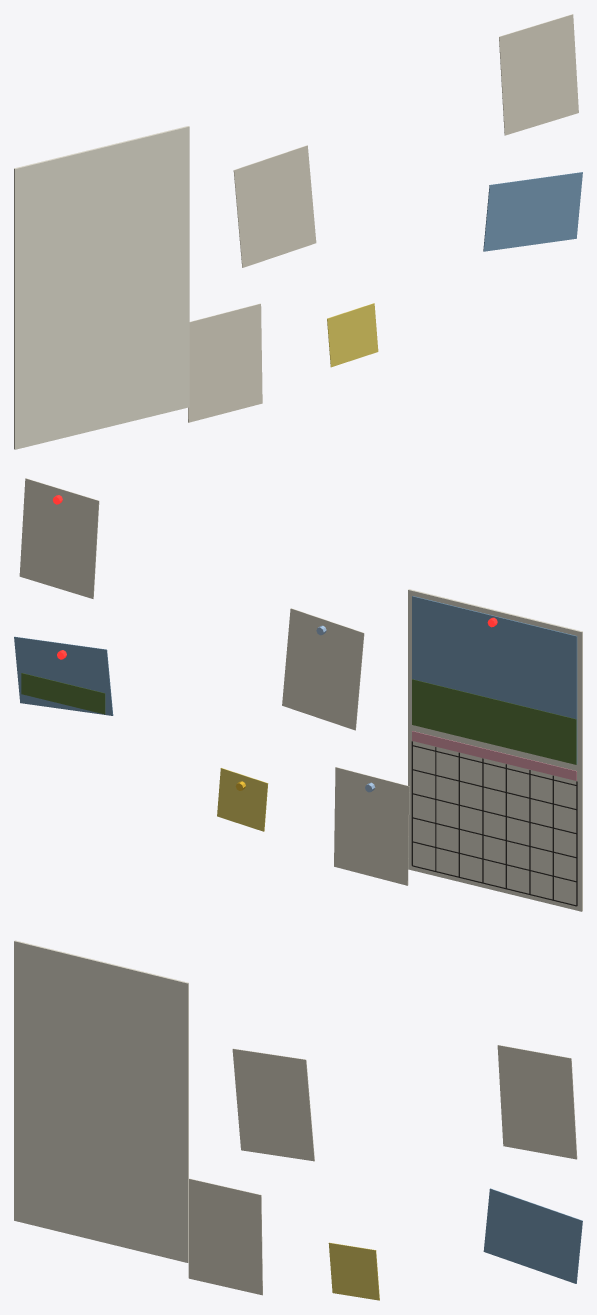
Rendered from SM_80s_CubiclePinup_A.glb.
3 renders of one model, top to bottom at view 1: azimuth 30°, elevation 25°; view 2: azimuth 150°, elevation 25°; view 3: azimuth 330°, elevation 25°, orthographic.
Parts seen in each view (by area): view 1: SM_80s_CubiclePinup_A; view 2: SM_80s_CubiclePinup_A; view 3: SM_80s_CubiclePinup_A.
Part boxes in pixels (<box>): SM_80s_CubiclePinup_A: <box>14,14,582,449</box>; SM_80s_CubiclePinup_A: <box>14,478,582,911</box>; SM_80s_CubiclePinup_A: <box>14,940,582,1300</box>.
Size of the model in its own units: 1.2 by 0.637 by 0.0191.
